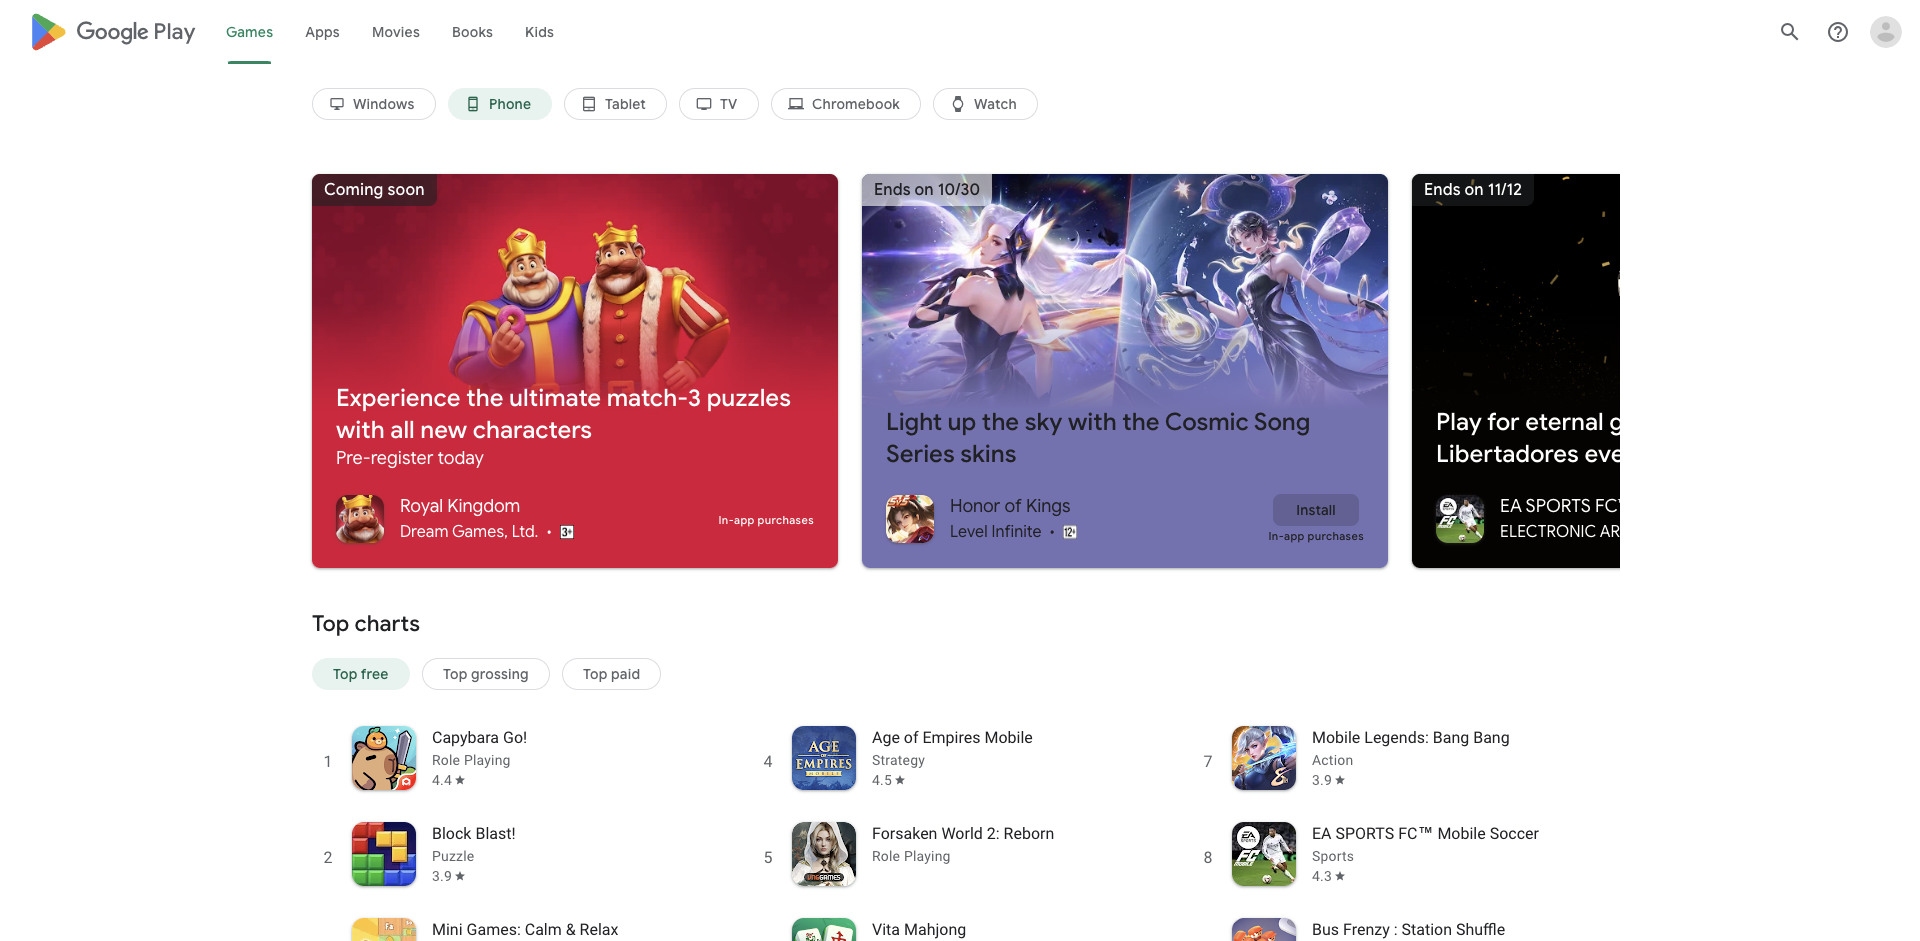button: (355, 0, 436, 64), (209, 0, 289, 64), (436, 0, 508, 64), (289, 0, 355, 64), (421, 658, 550, 690), (508, 0, 569, 64), (562, 658, 661, 690), (312, 658, 410, 690), (1273, 494, 1359, 526), (1823, 494, 1909, 526), (1813, 9, 1862, 56), (1766, 9, 1813, 56), (1862, 9, 1910, 56)
link: (862, 174, 1389, 567), (312, 174, 838, 567), (1412, 174, 1920, 567), (312, 709, 729, 806), (752, 709, 1168, 806), (1191, 709, 1608, 806), (312, 806, 729, 902), (752, 806, 1168, 902), (1191, 806, 1608, 902), (1632, 709, 1920, 806), (1632, 806, 1920, 902), (336, 494, 719, 544), (887, 494, 1269, 544), (1436, 494, 1818, 544), (312, 902, 729, 941), (752, 902, 1168, 941), (1191, 902, 1608, 941), (1632, 902, 1920, 941), (28, 0, 196, 64), (770, 88, 921, 120), (312, 88, 436, 120), (448, 88, 552, 120), (563, 88, 667, 120), (933, 88, 1037, 120), (678, 88, 758, 120)
